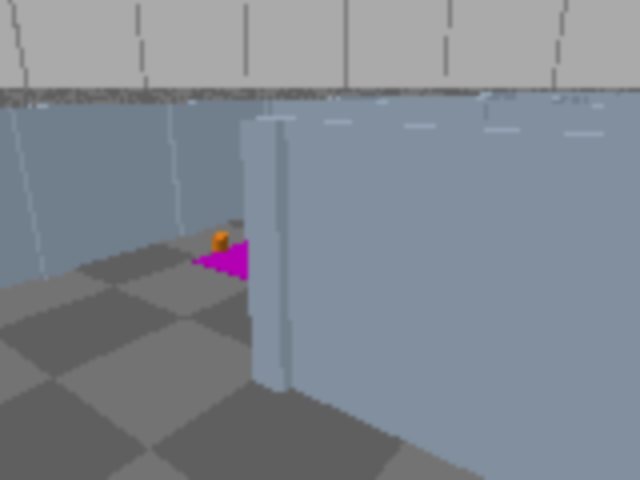puck: (212, 234, 229, 254)
